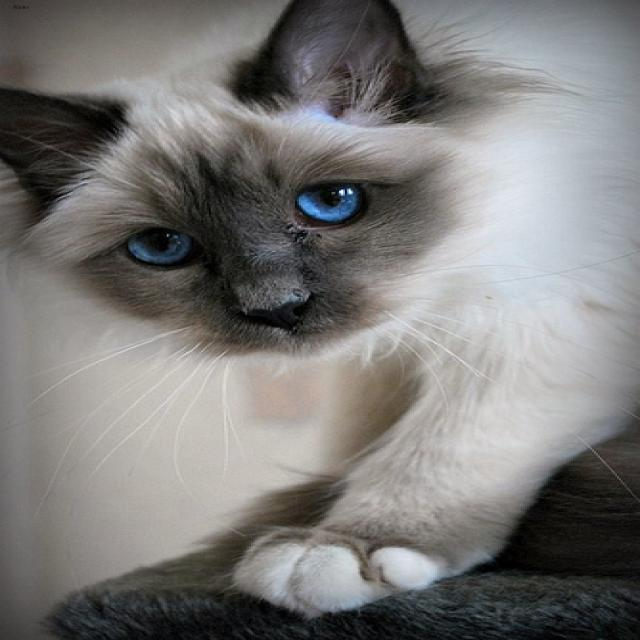cat: (0, 0, 483, 361)
